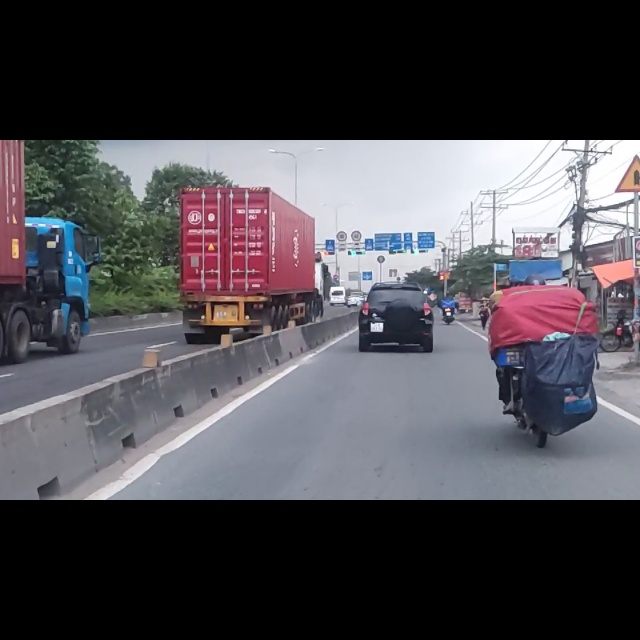bien_cam: (614, 26, 640, 94), (351, 161, 362, 180), (337, 162, 347, 181)
